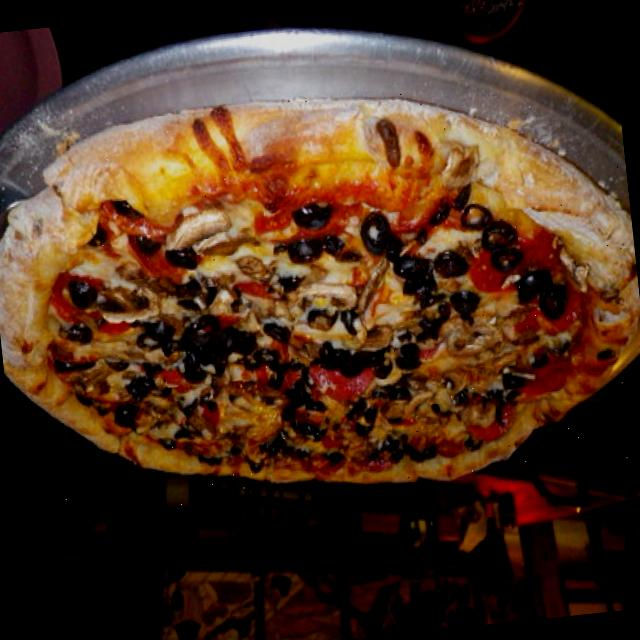Olive: (356, 214, 499, 343), (160, 306, 253, 387), (306, 337, 398, 386), (104, 370, 166, 439), (276, 364, 322, 434)
mushrooms: (141, 177, 240, 276), (426, 309, 503, 366), (94, 281, 168, 330), (311, 260, 367, 316), (225, 250, 287, 298)
pizza: (0, 100, 640, 482)
